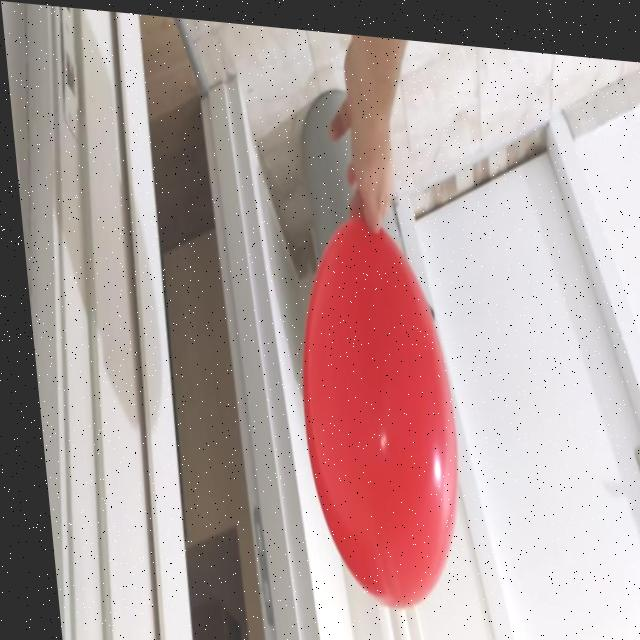balloon: (268, 185, 468, 632)
